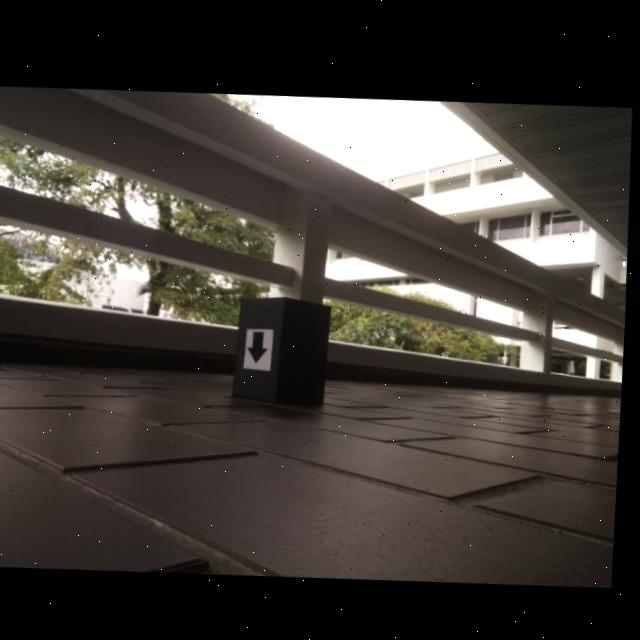DOWN: (250, 328, 272, 361)
